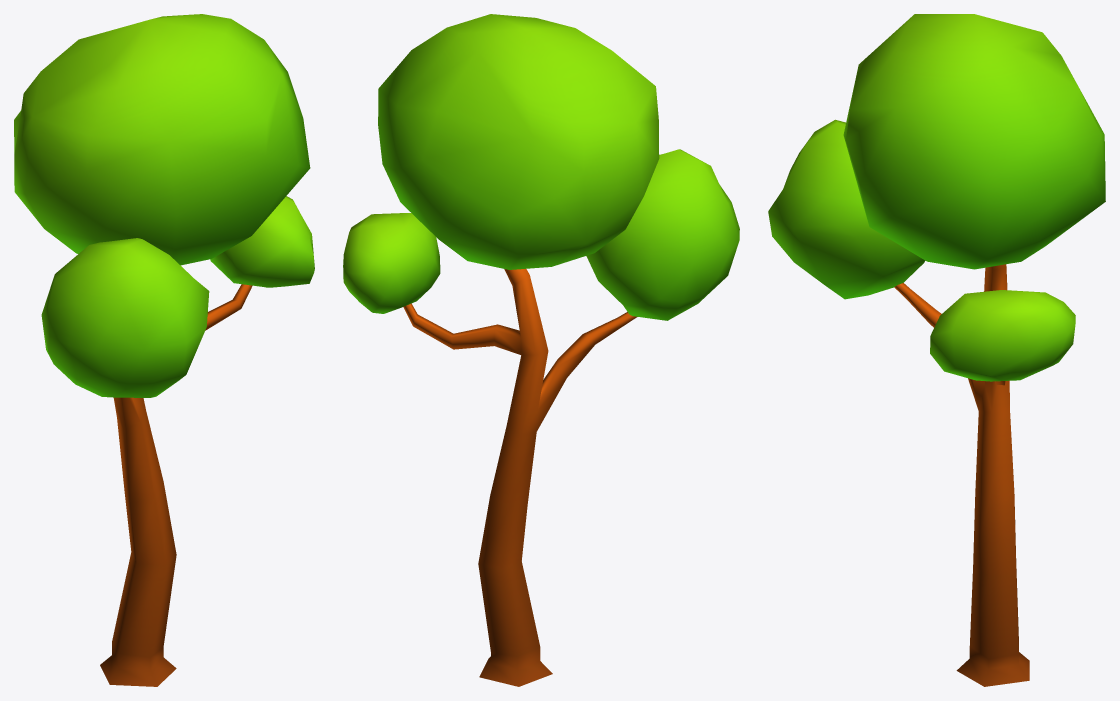
File: CombineTree.fbx
3 renders of one model, left to right at view 1: azimuth 30°, elevation 25°; view 2: azimuth 150°, elevation 25°; view 3: azimuth 270°, elevation 25°, orthographic. The views are drawn at different scales.
Visible parts, largest first — view 1: Bown Green 01; view 2: Bown Green 01; view 3: Bown Green 01.
Boxes of the visible parts, x1,y1,x2,y2 form: Bown Green 01: [14, 14, 314, 686]; Bown Green 01: [343, 14, 739, 686]; Bown Green 01: [768, 14, 1105, 686].
Size of the model in its own units: 423 by 825 by 384.
